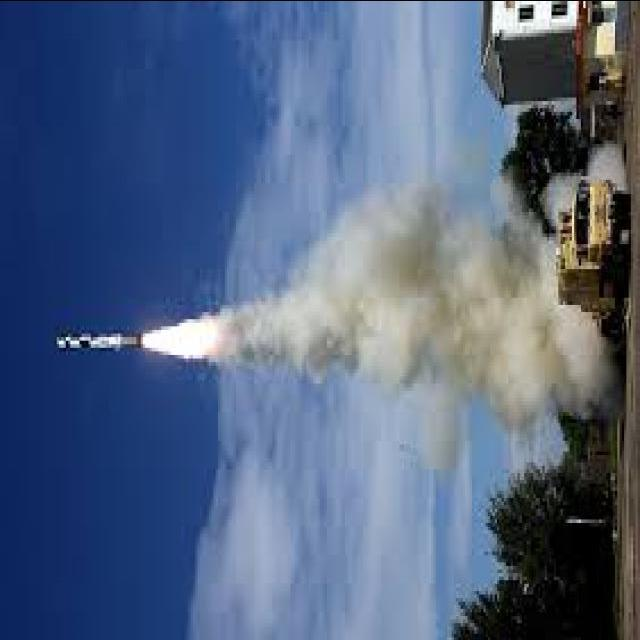Missile: (46, 327, 137, 355)
